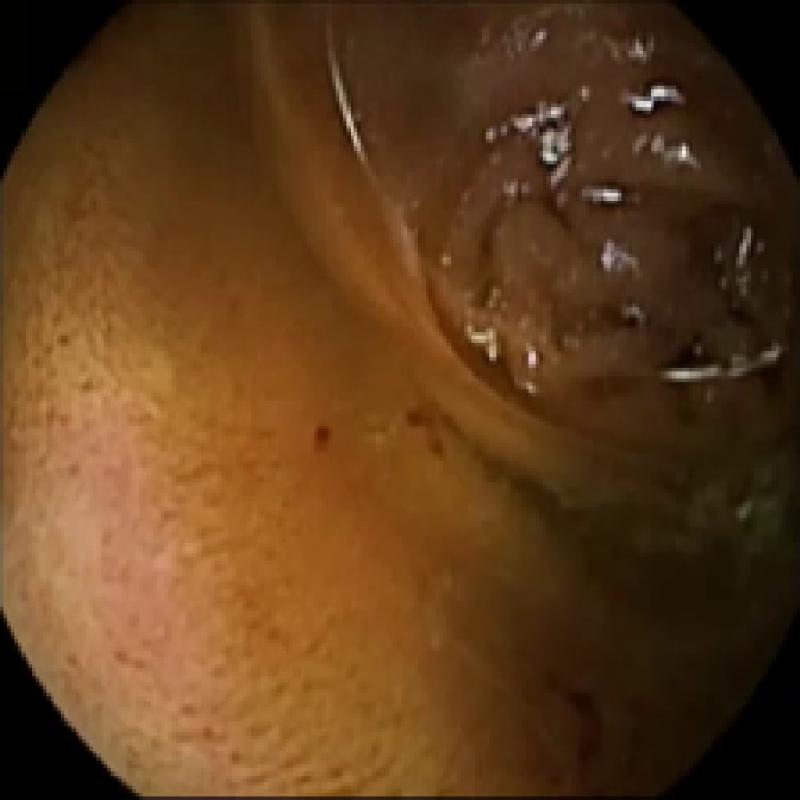bleeding: (401, 399, 451, 454), (490, 461, 532, 499), (307, 418, 339, 453)
